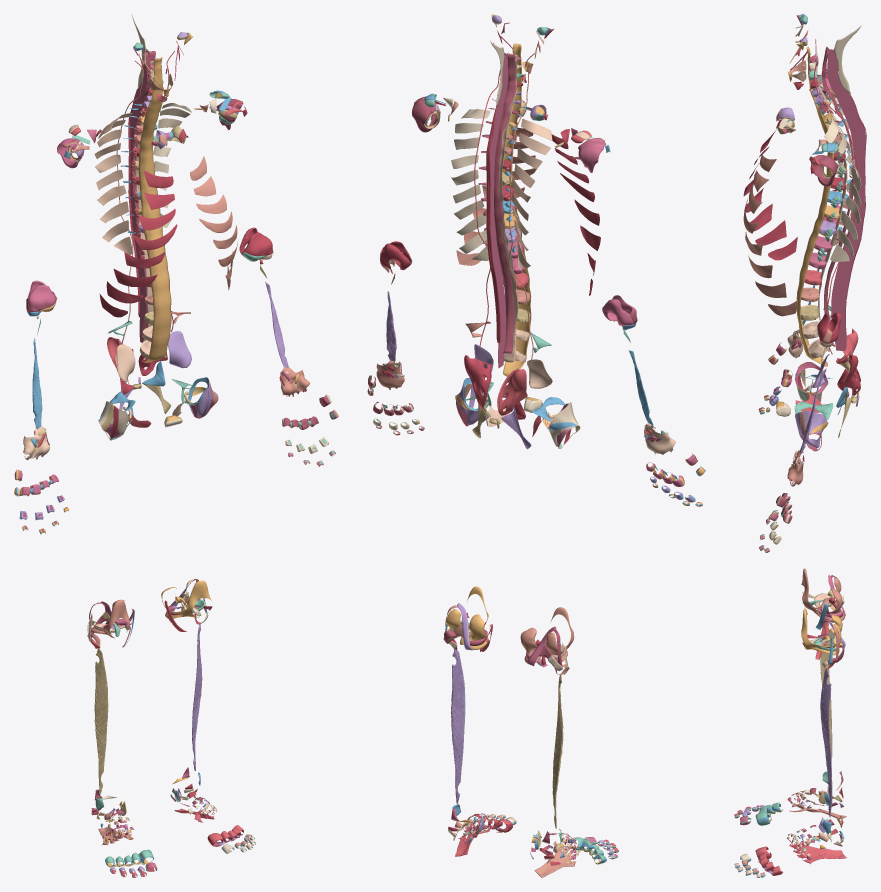
File: z-anatomy-joints.glb
3 renders of one model, left to right at view 1: azimuth 30°, elevation 25°; view 2: azimuth 150°, elevation 25°; view 3: azimuth 270°, elevation 25°, orthographic. The views are drawn at different scales.
Visible parts, largest first — view 1: Anterior longitudinal ligament, External intercostal membraner, Internal intercostal membraner, External intercostal membranel, Interosseous membrane of legr, Interspinous ligaments, Internal intercostal membranel, Articular capsule of elbow jointl, Interosseous membrane of legl, Articular capsule of elbow jointr, Anterior sacro-iliac ligamentl, Articular capsule of knee jointl (+1 smaller); view 2: Internal intercostal membranel, Ligamenta flava, Interspinous ligaments, Internal intercostal membraner, Interosseous membrane of legl, Anterior longitudinal ligament, External intercostal membraner, Posterior longitudinal ligament, Supraspinous ligament, Posterior sacro-iliac ligamentr, External intercostal membranel, Posterior sacro-iliac ligamentl (+4 smaller); view 3: Interspinous ligaments, External intercostal membranel, Internal intercostal membranel, Anterior longitudinal ligament, External intercostal membraner, Interosseous membrane of legl, Ligamenta flava, Articular capsule of knee jointr, Posterior longitudinal ligament, Articular capsule of knee jointl, Long plantar ligamentl, Articular capsule of elbow jointl (+12 smaller).
Part boxes in pixels (bbox=[...]): Anterior longitudinal ligament: bbox=[138, 57, 171, 363]; External intercostal membraner: bbox=[99, 170, 177, 317]; Internal intercostal membraner: bbox=[94, 113, 132, 254]; External intercostal membranel: bbox=[190, 156, 238, 289]; Interosseous membrane of legr: bbox=[94, 648, 108, 794]; Interspinous ligaments: bbox=[130, 50, 149, 342]; Internal intercostal membranel: bbox=[153, 102, 191, 235]; Articular capsule of elbow jointl: bbox=[239, 227, 272, 261]; Interosseous membrane of legl: bbox=[192, 622, 202, 770]; Articular capsule of elbow jointr: bbox=[27, 280, 56, 311]; Anterior sacro-iliac ligamentl: bbox=[167, 331, 191, 368]; Articular capsule of knee jointl: bbox=[161, 579, 211, 618]; Internal intercostal membranel: bbox=[451, 109, 490, 260]; Ligamenta flava: bbox=[494, 53, 515, 353]; Interspinous ligaments: bbox=[488, 52, 508, 368]; Internal intercostal membraner: bbox=[512, 119, 552, 271]; Interosseous membrane of legl: bbox=[451, 649, 465, 804]; Anterior longitudinal ligament: bbox=[502, 43, 531, 376]; External intercostal membraner: bbox=[551, 134, 600, 295]; Posterior longitudinal ligament: bbox=[499, 53, 518, 362]; Supraspinous ligament: bbox=[486, 108, 500, 343]; Posterior sacro-iliac ligamentr: bbox=[497, 368, 527, 415]; External intercostal membranel: bbox=[456, 127, 537, 265]; Posterior sacro-iliac ligamentl: bbox=[464, 355, 491, 411]; Interspinous ligaments: bbox=[826, 49, 865, 350]; External intercostal membranel: bbox=[743, 154, 797, 316]; Internal intercostal membranel: bbox=[824, 116, 861, 262]; Anterior longitudinal ligament: bbox=[796, 46, 833, 366]; External intercostal membraner: bbox=[743, 129, 797, 260]; Interosseous membrane of legl: bbox=[820, 667, 832, 817]; Ligamenta flava: bbox=[822, 47, 854, 320]; Articular capsule of knee jointr: bbox=[801, 568, 844, 622]; Posterior longitudinal ligament: bbox=[816, 53, 847, 351]; Articular capsule of knee jointl: bbox=[801, 608, 842, 655]; Long plantar ligamentl: bbox=[789, 843, 846, 864]; Articular capsule of elbow jointl: bbox=[817, 312, 841, 343].
Bounding box in the file's own units: 66.15 × 158 × 23.08.
